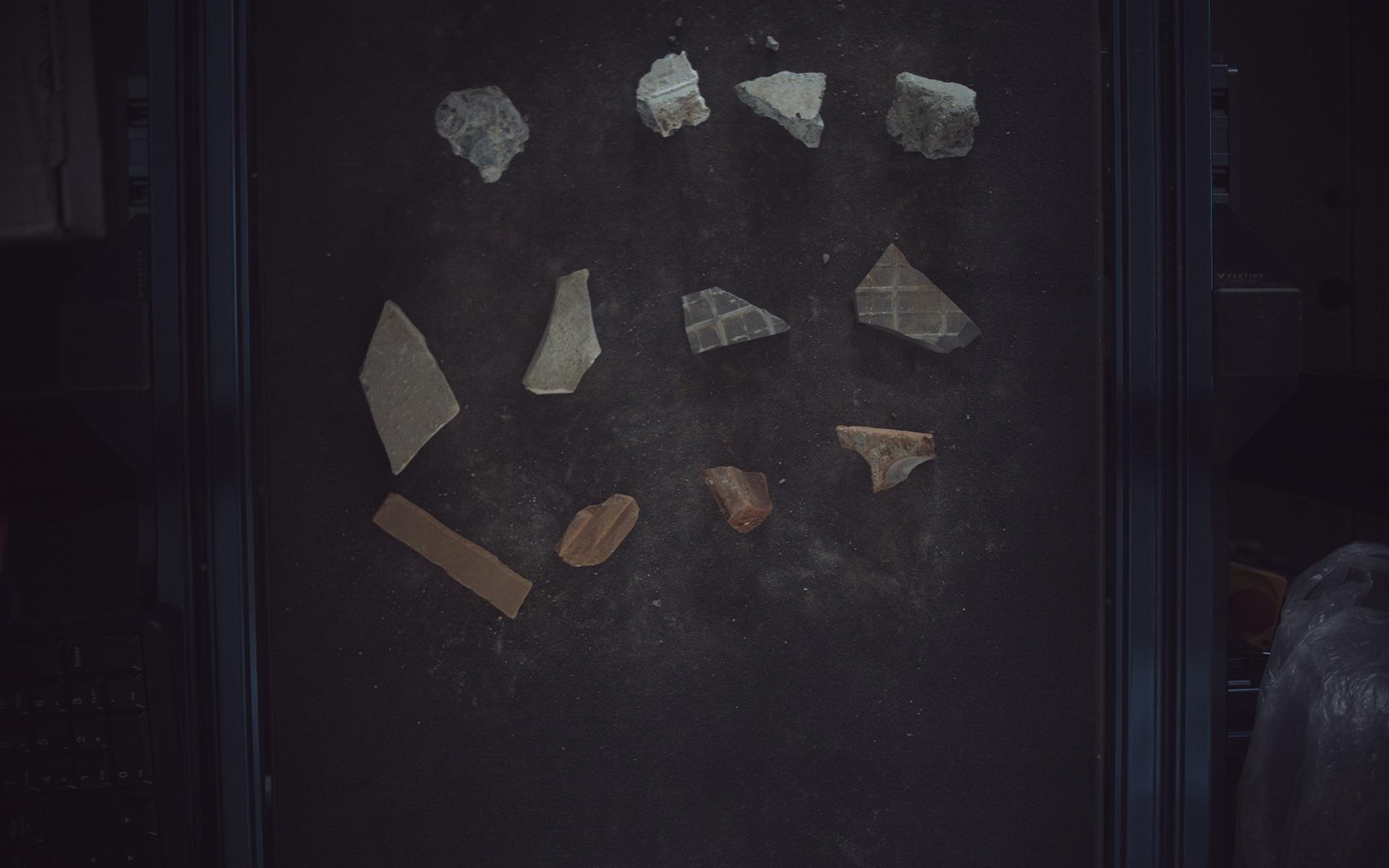brick: (373, 493, 532, 619), (838, 426, 937, 493), (556, 494, 640, 568), (702, 467, 774, 534)
concrete: (435, 85, 530, 182), (888, 71, 982, 158), (736, 69, 828, 147), (637, 50, 711, 136)
tile: (359, 300, 460, 475), (857, 244, 982, 353), (524, 268, 602, 394), (684, 287, 791, 354)
